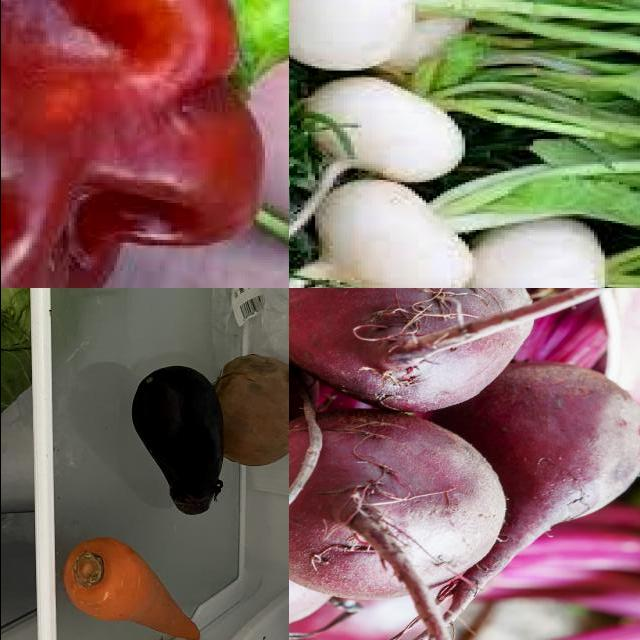beet: (289, 415, 505, 603), (490, 362, 640, 552), (289, 289, 520, 410), (289, 509, 331, 640)
bell_pepper: (1, 1, 265, 289)
carrot: (62, 532, 205, 640)
eggplant: (128, 365, 228, 519)
onion: (213, 353, 289, 470)
